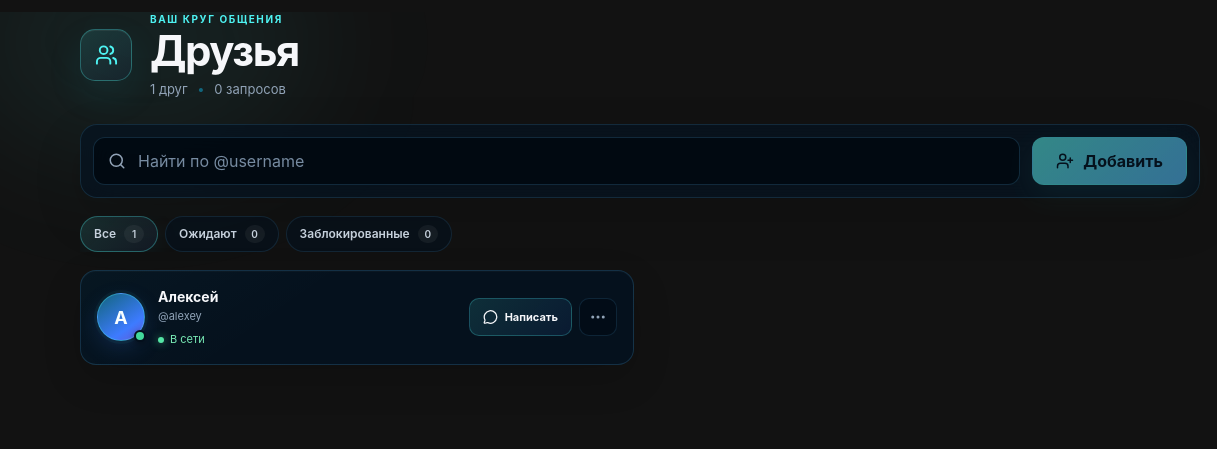
Test: FriendsPage › keeps secondary friend actions inside the compact menu
This screenshot has width=1217, height=449.
Click the heading named "Другие действия для Алексей" at (598, 317), box [579, 298, 617, 336]
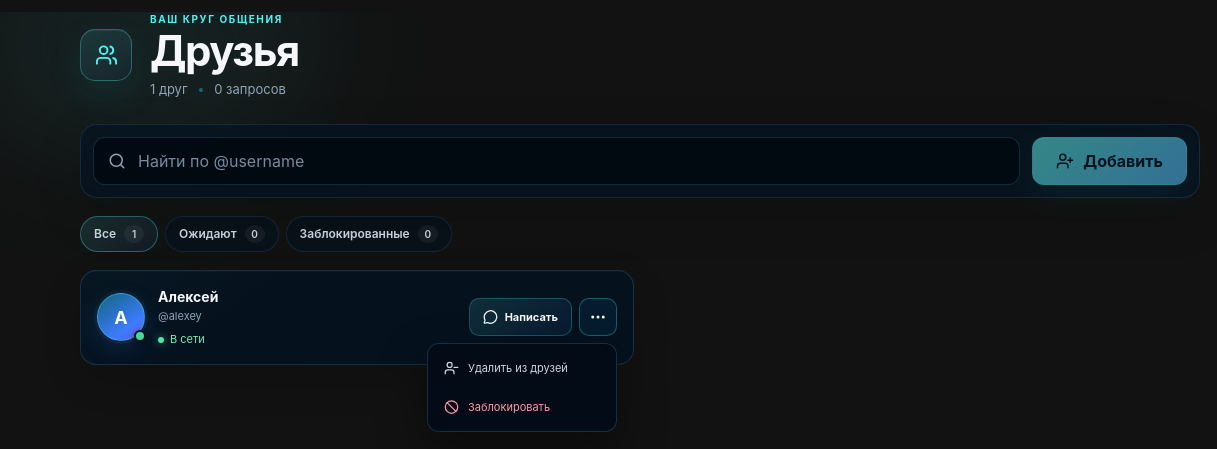
Expected: the element with class "online" next to "В сети" is shown, [134, 330, 146, 342]
Result: the button "Удалить из друзей" is shown at [434, 350, 610, 386]
Result: the button "Заблокировать" is shown at [434, 389, 610, 425]
